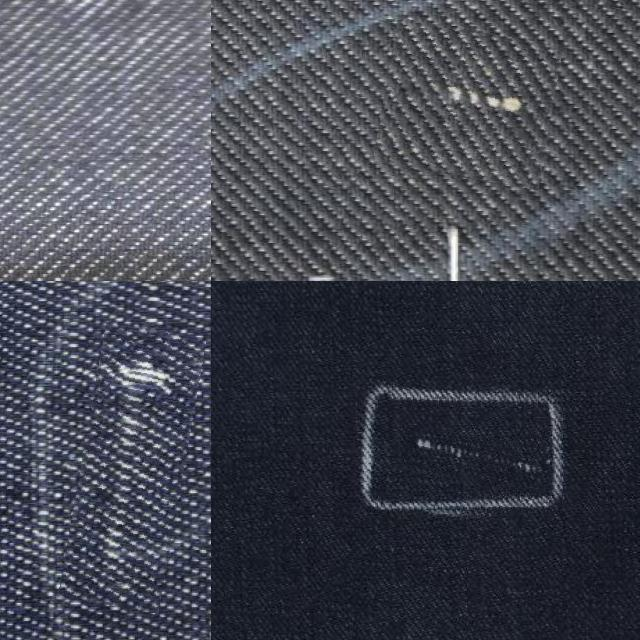Thread_other: (70, 322, 196, 610), (378, 24, 558, 182), (406, 430, 552, 489)
